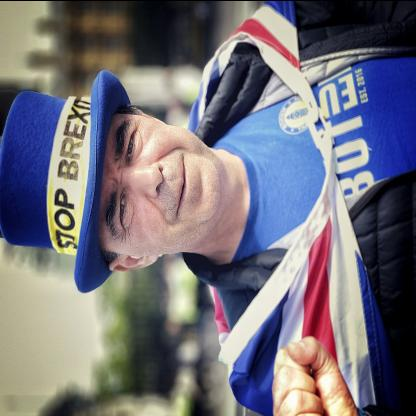hat: (3, 64, 132, 300)
